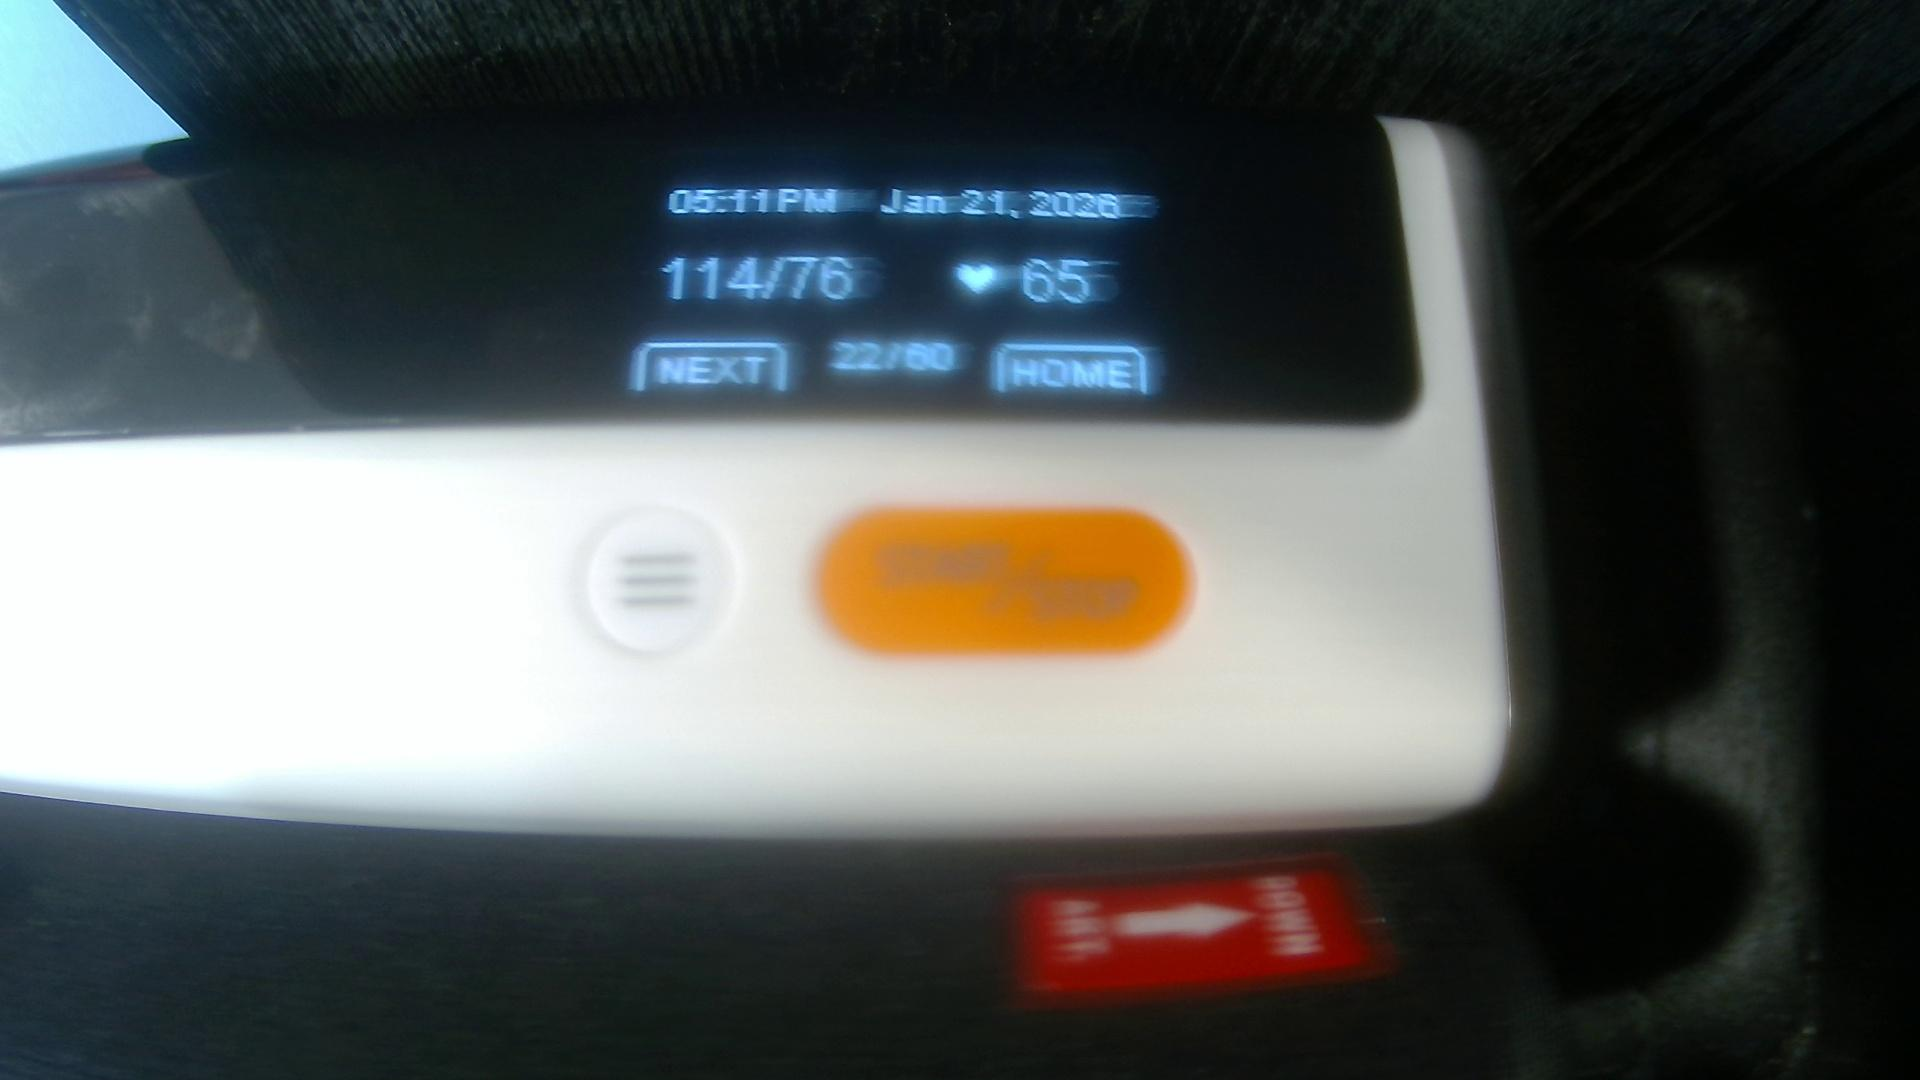DISPLAY: (24, 119, 1410, 434)
